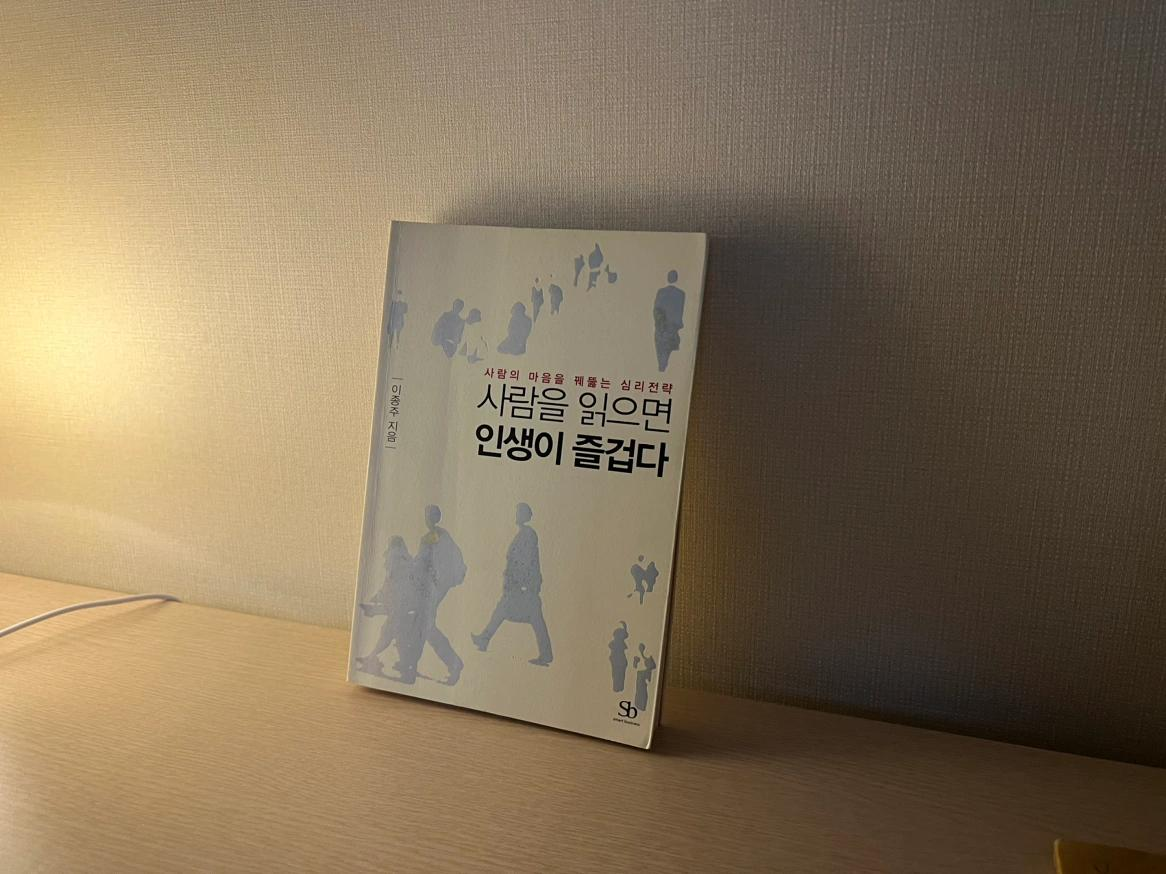book: (345, 218, 709, 750)
